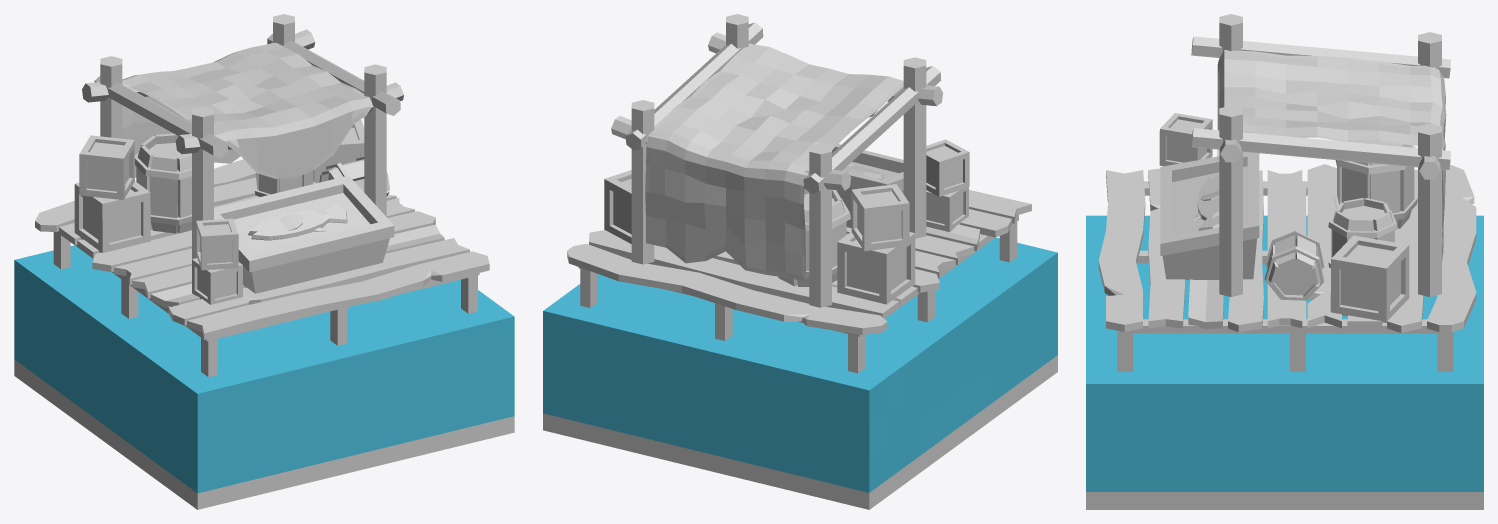
File: PortShop2.fbx
3 renders of one model, left to right at view 1: azimuth 30°, elevation 25°; view 2: azimuth 150°, elevation 25°; view 3: azimuth 270°, elevation 25°, orthographic. The views are drawn at different scales.
Visible parts, largest first — view 1: PortShop1.002; view 2: PortShop1.002; view 3: PortShop1.002.
Part boxes in pixels (x1,y1,x2,y2): PortShop1.002: (14, 14, 514, 509); PortShop1.002: (543, 14, 1057, 509); PortShop1.002: (1086, 14, 1483, 509).
Bounding box in the file's own units: 2 × 2 × 2.
